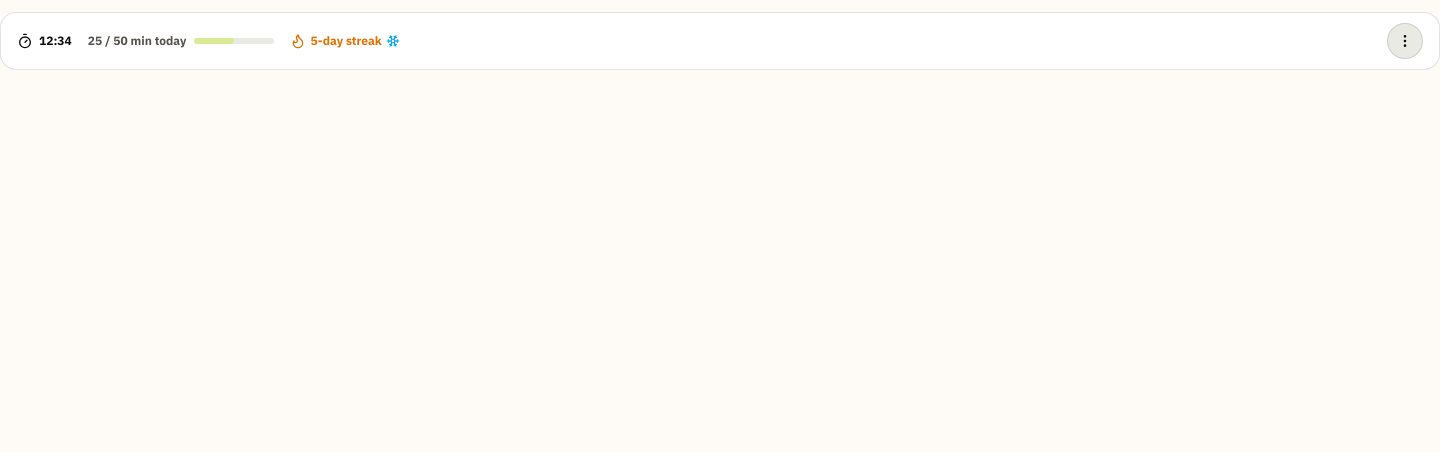
Test: pausing tracking › tells the tracker nothing should be counted, flushes what was studied, and can resume
This screenshot has width=1440, height=452.
Step 1. Click the button named "Study session options" → (1405, 41), box [1387, 23, 1423, 59]
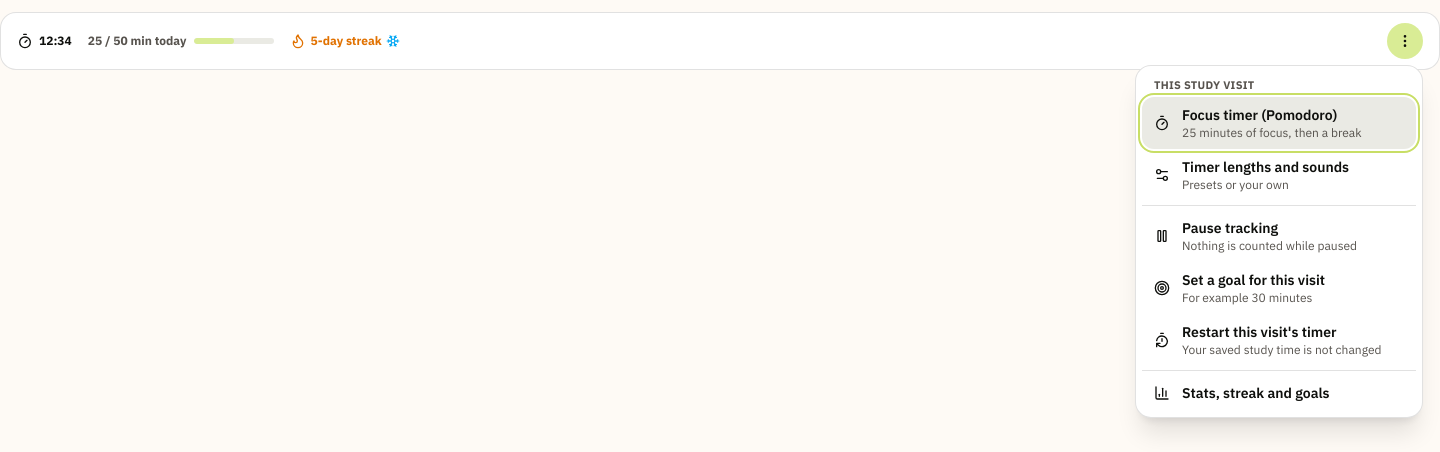
Step 2. Click the menu item "Pause tracking Nothing is counted while paused" → (1279, 236), box [1142, 210, 1416, 262]
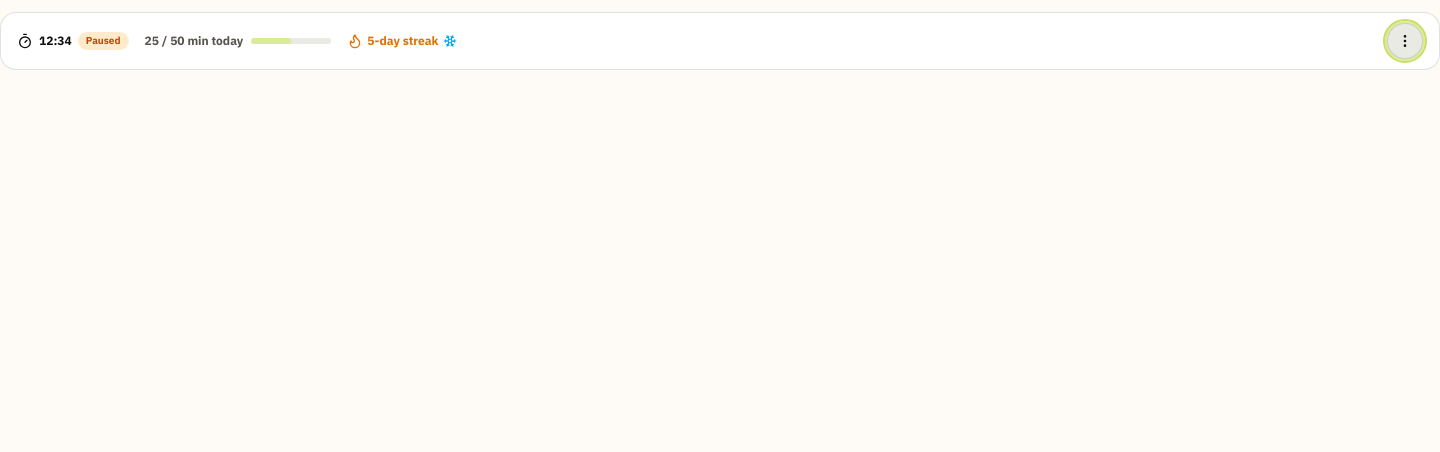
expect the text "Paused" is shown: met, box [78, 32, 129, 50]
Step 3. Click the button named "Study session options" → (1405, 41), box [1387, 23, 1423, 59]
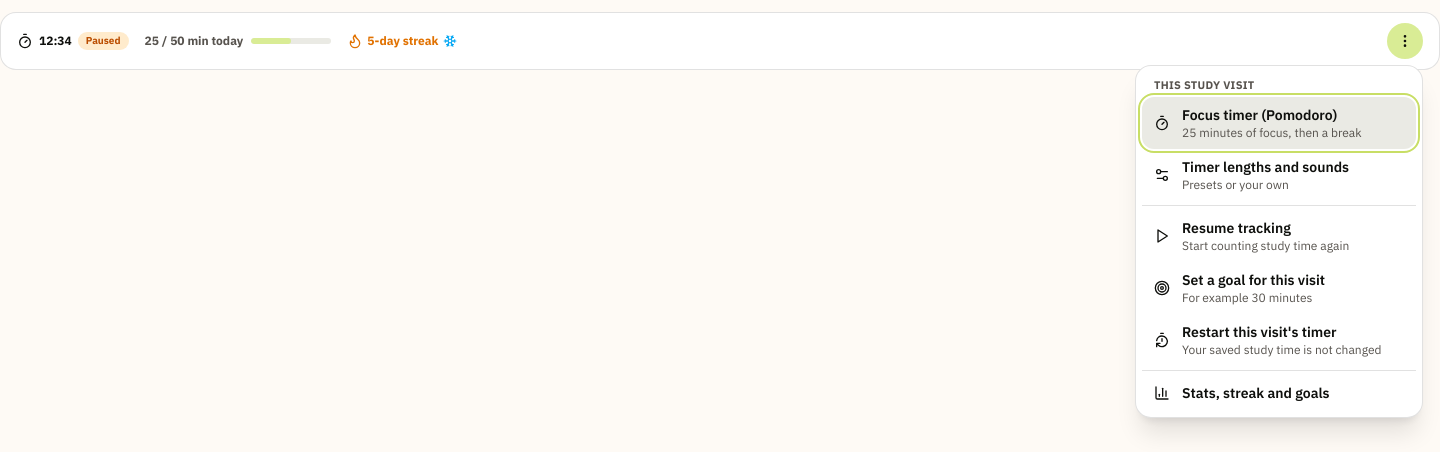
expect the menu item "Resume tracking Start counting study time again" is shown: met
Step 4. Click the menu item "Resume tracking Start counting study time again" → (1279, 236), box [1142, 210, 1416, 262]
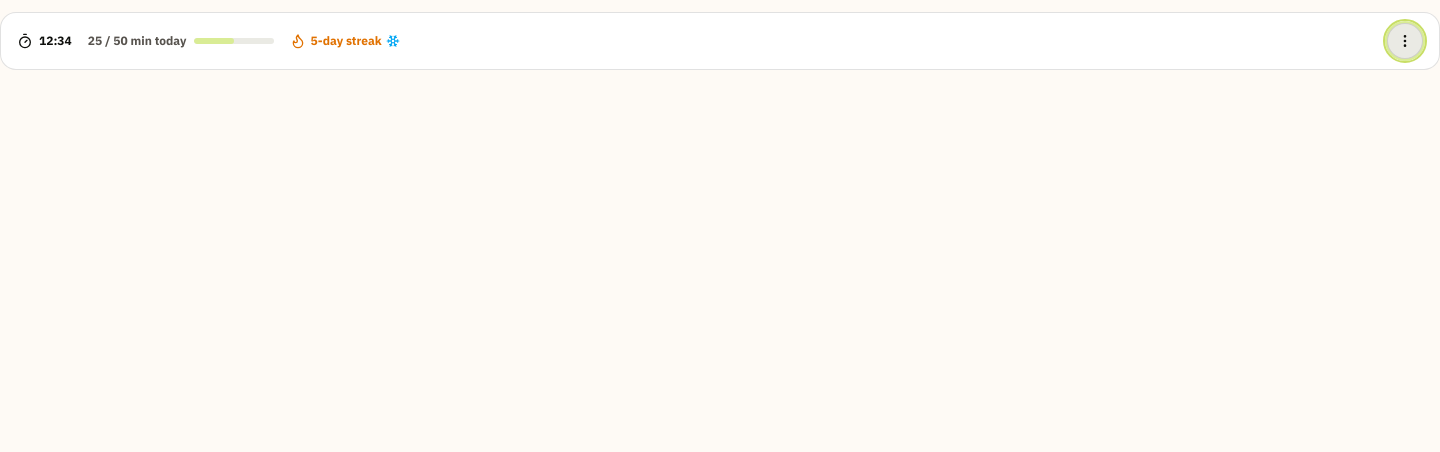
expect the text "Paused" is gone: met
